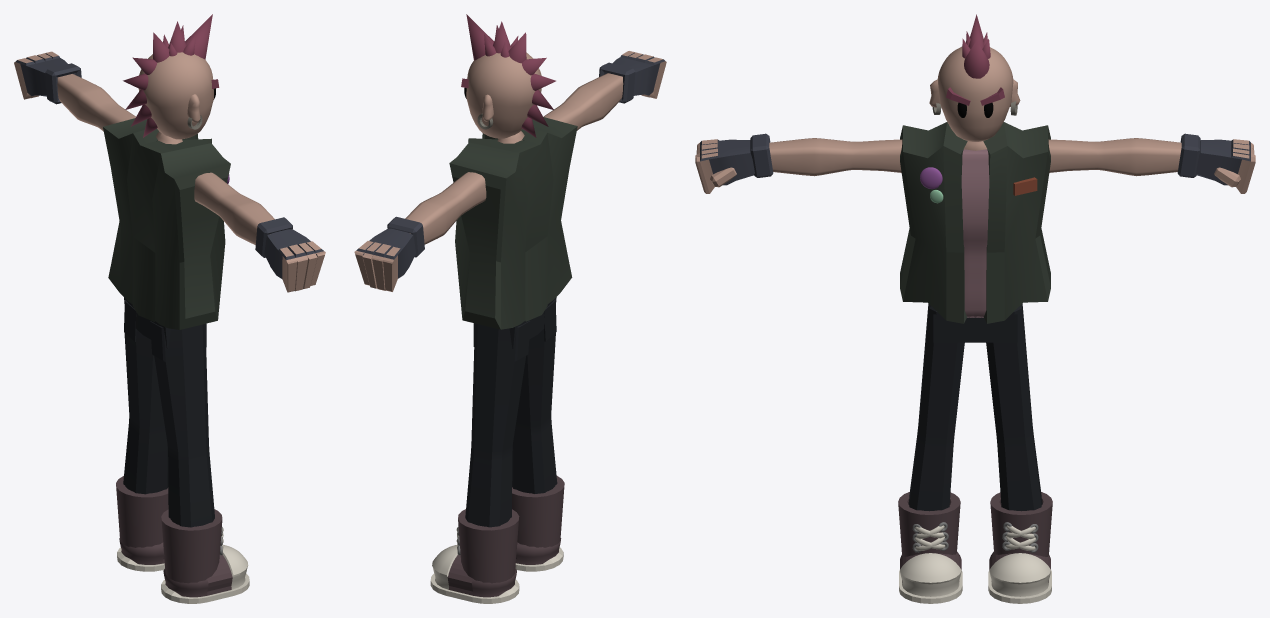
The model's file is SKINNY pink hair.fbx.
3 renders of one model, left to right at view 1: azimuth 30°, elevation 25°; view 2: azimuth 150°, elevation 25°; view 3: azimuth 270°, elevation 25°, orthographic.
Parts seen in each view (by area): view 1: polySurface59; view 2: polySurface59; view 3: polySurface59.
Boxes of the visible parts, x1,y1,x2,y2 form: polySurface59: [14, 14, 325, 603]; polySurface59: [354, 14, 666, 603]; polySurface59: [695, 14, 1255, 603].
Bounding box in the file's own units: 0.0344 × 0.1805 × 0.1637.
